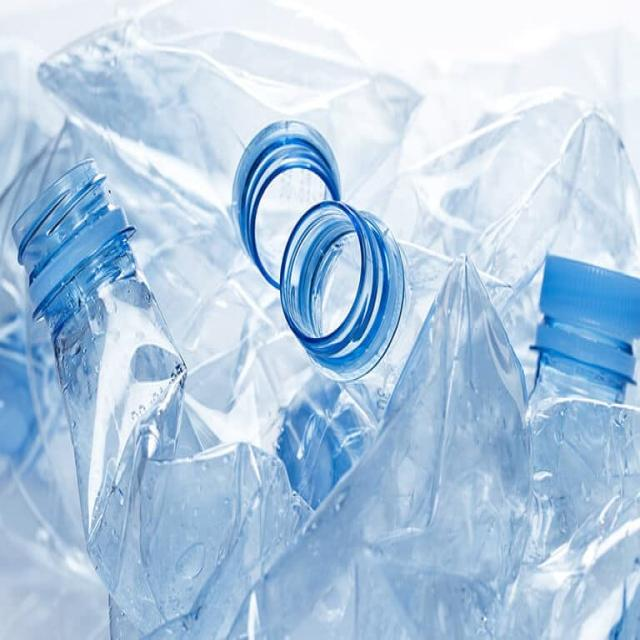cap: (538, 231, 640, 375)
no_cap: (285, 189, 394, 367), (11, 155, 126, 312), (236, 120, 327, 280)
